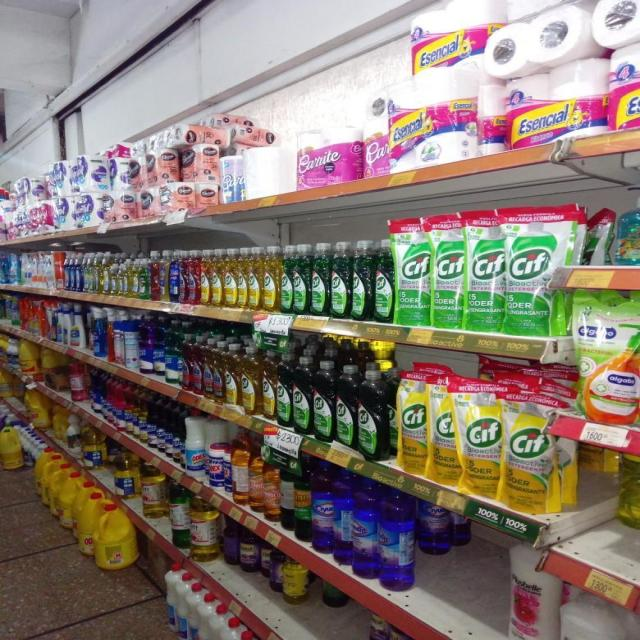ala_conc_amarillo: (213, 340, 224, 405), (203, 338, 213, 400)
ala_conc_rojo: (192, 335, 202, 395), (190, 249, 200, 305), (170, 250, 180, 303), (180, 250, 188, 304)
cif_conc_bot_amarilla: (241, 344, 260, 416), (264, 244, 279, 312), (262, 349, 276, 421), (248, 246, 262, 310), (224, 248, 237, 308), (211, 248, 223, 307), (200, 248, 211, 306), (238, 247, 248, 310)
cif_conc_botella_verde: (358, 365, 389, 461), (336, 362, 357, 448), (373, 238, 394, 324), (313, 360, 334, 442), (351, 240, 372, 322), (330, 242, 350, 319), (294, 355, 312, 435), (310, 243, 328, 316), (293, 243, 310, 315), (277, 351, 292, 428), (281, 245, 293, 314)
cif_conc_sachet_amarillo: (504, 408, 558, 514), (460, 376, 502, 498), (429, 370, 459, 485), (398, 365, 427, 475)
cif_conc_sachet_verde: (504, 206, 567, 336), (465, 209, 503, 334), (395, 216, 430, 326), (431, 213, 464, 329)
magistral_con_amarillo: (120, 255, 130, 297), (110, 253, 119, 296), (100, 252, 108, 294), (92, 252, 99, 294)
